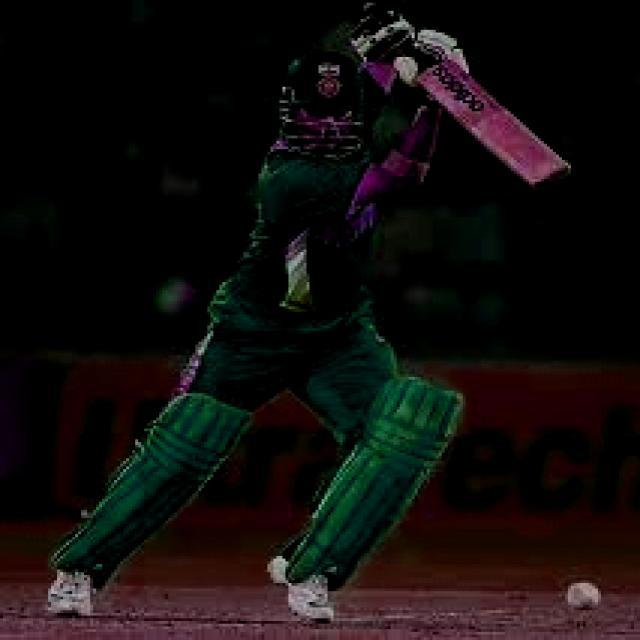bat: (416, 53, 582, 197)
toe: (521, 163, 574, 188)
